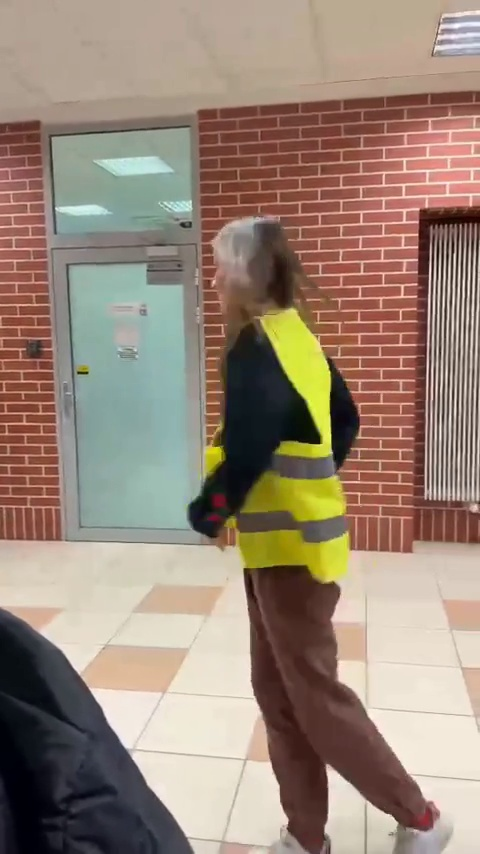vest: (174, 213, 426, 834)
